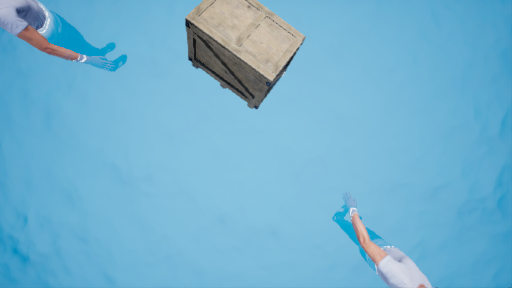person: (1, 2, 136, 82), (336, 196, 438, 288)
